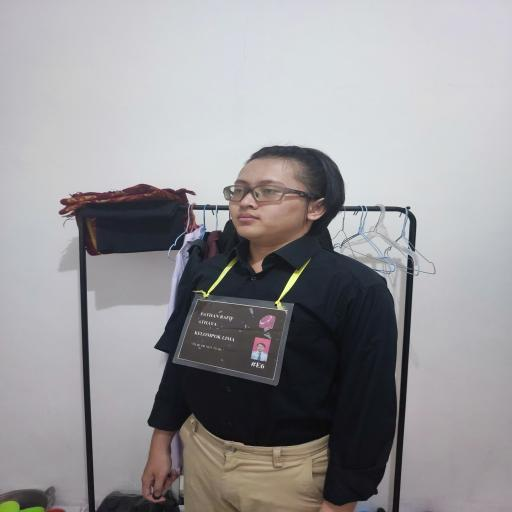celana_salah: (168, 418, 340, 512)
kemeja_salah: (150, 248, 408, 442)
nametag_ada: (167, 276, 314, 390)
